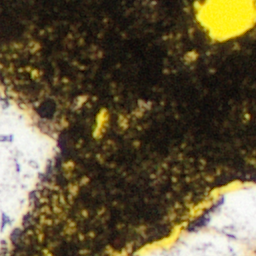air_pores: (194, 0, 255, 41)
cement_matrix: (0, 0, 255, 255), (96, 113, 107, 132)
cracks: (111, 181, 255, 255), (97, 114, 106, 131)
gravel_crushed_stones: (0, 85, 57, 255), (142, 186, 255, 255)
